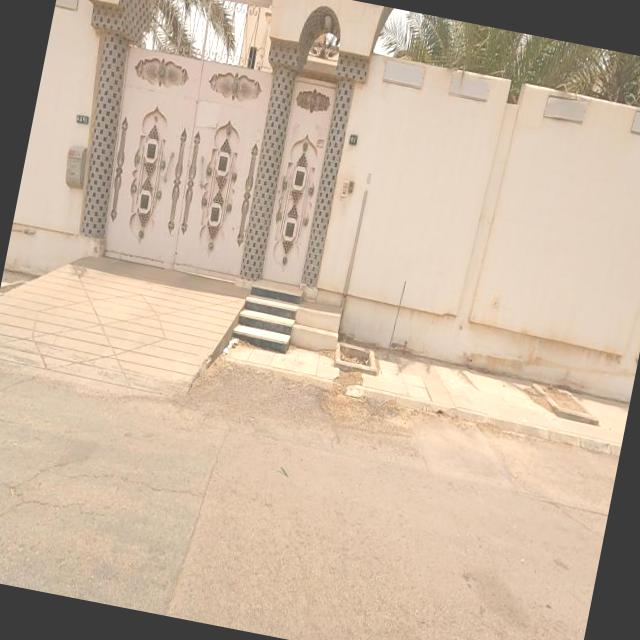debris: (189, 302, 265, 392)
